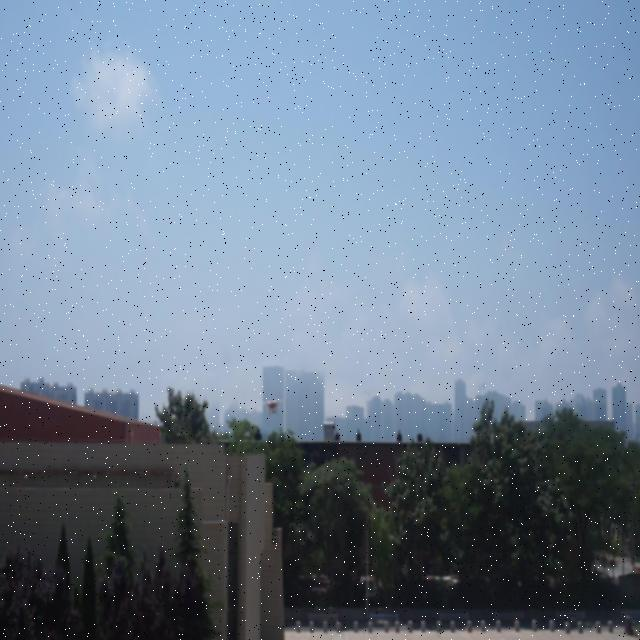UAV: (262, 398, 284, 416)
